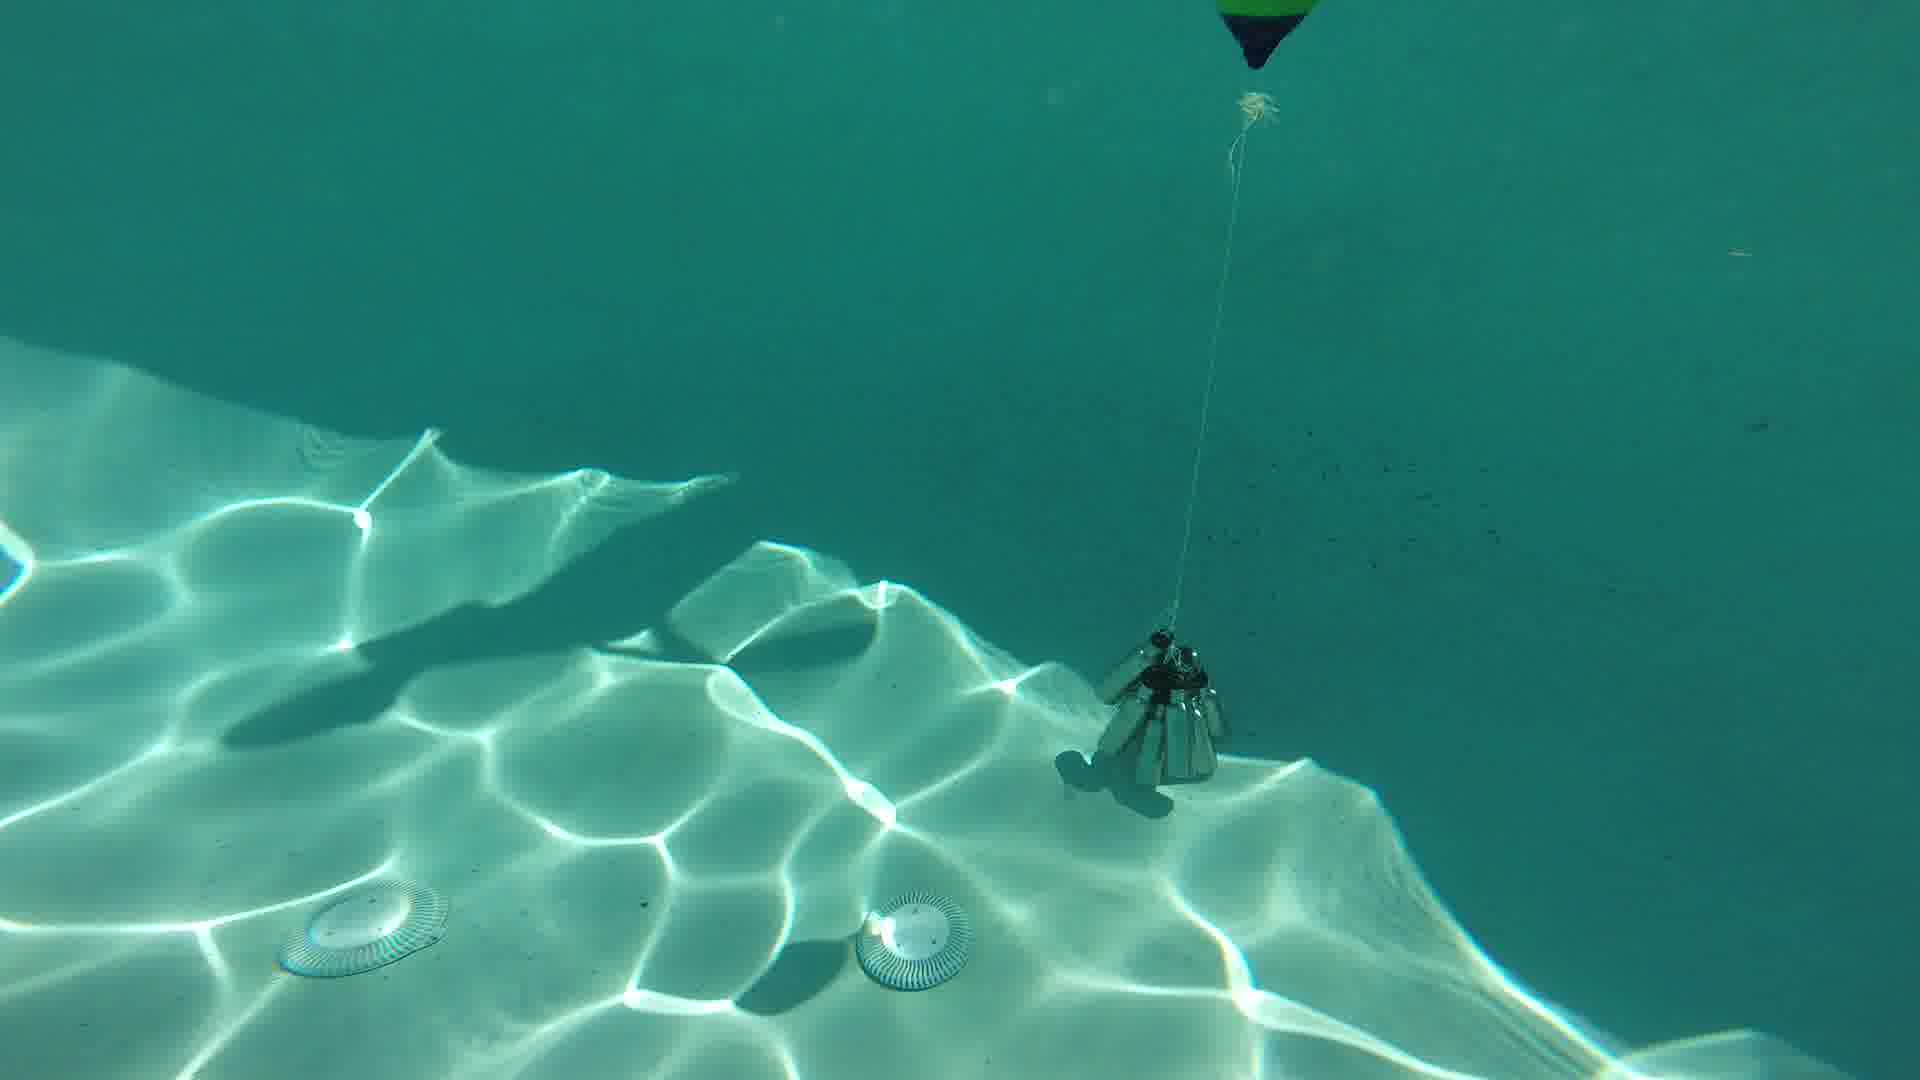yellow_buoy: (1217, 1, 1313, 124)
